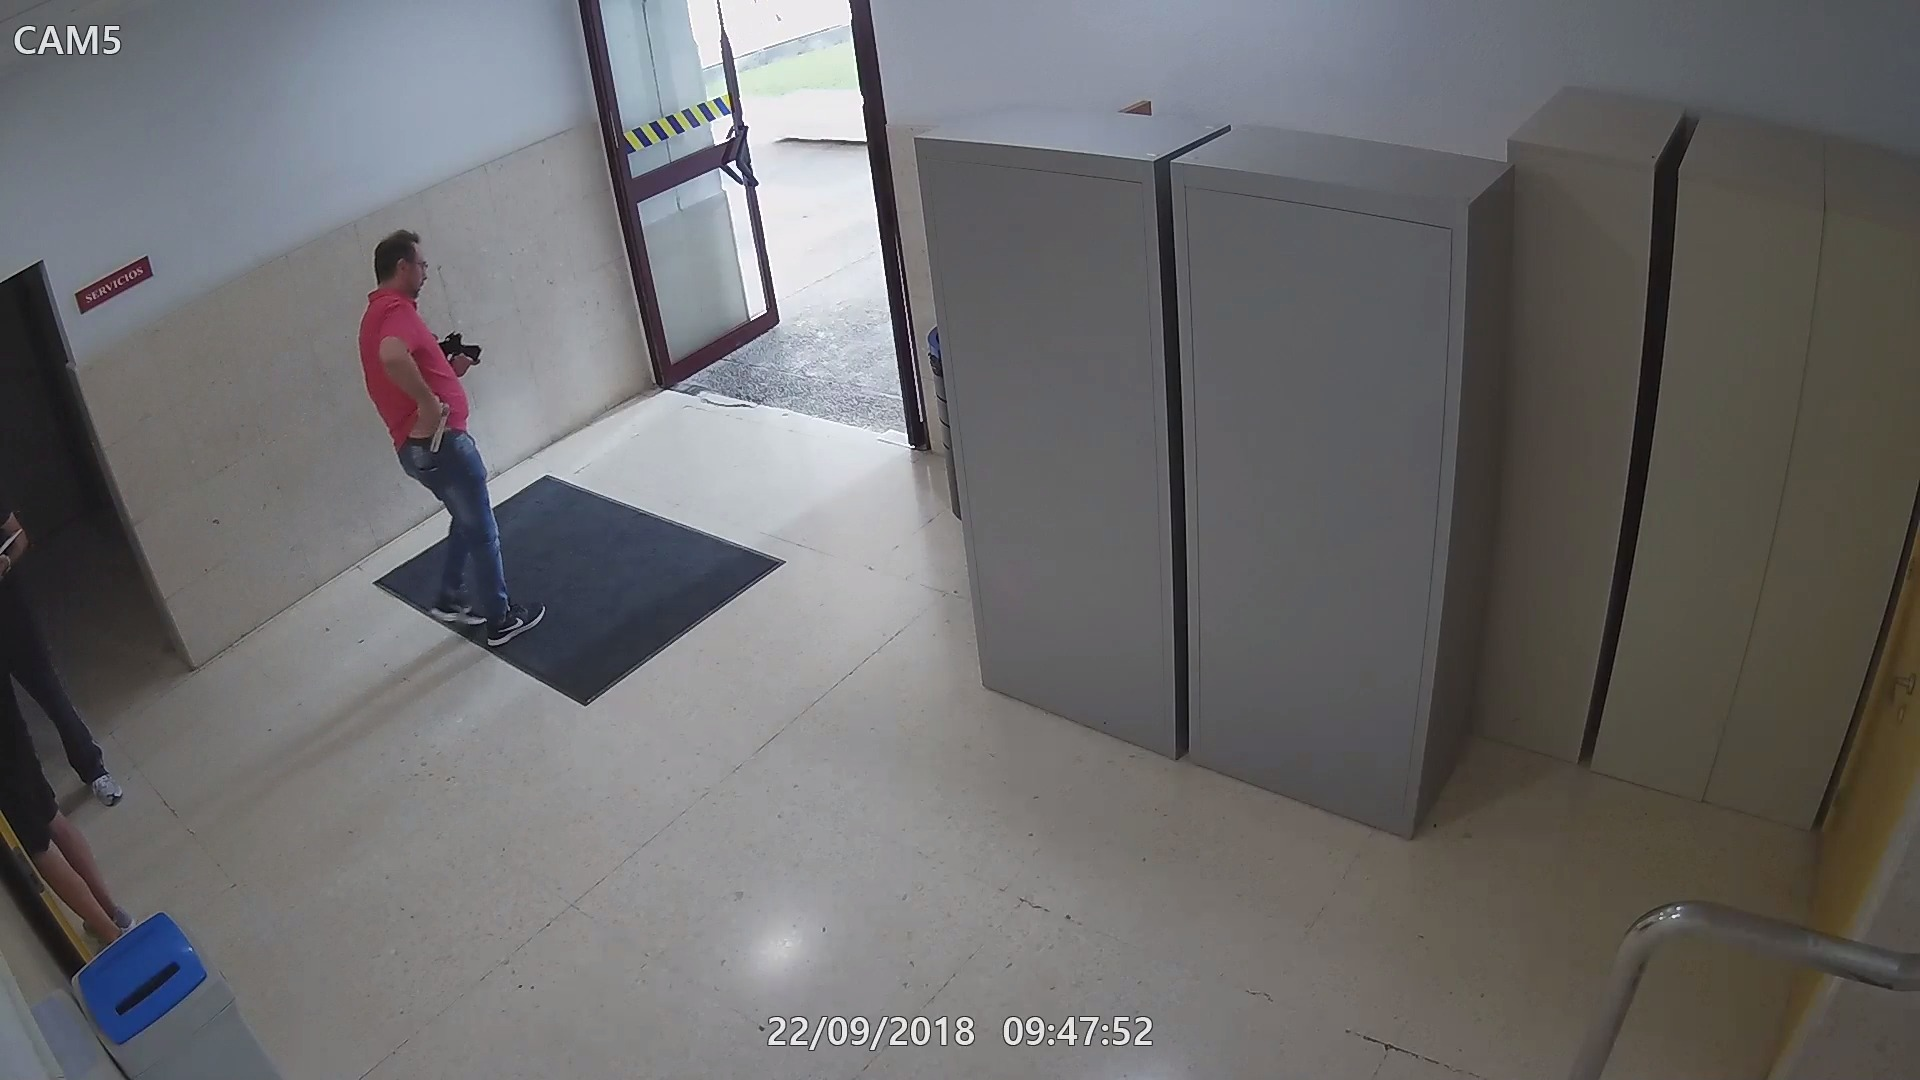Handgun: (419, 396, 454, 454)
Short_rifle: (431, 324, 487, 368)
